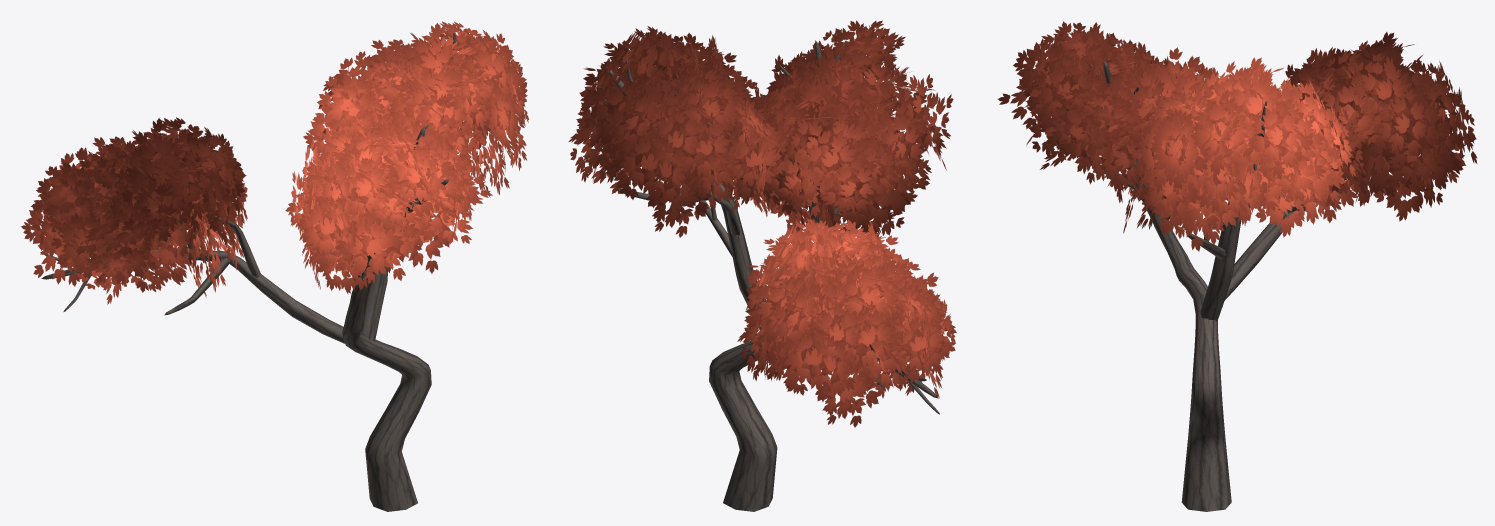
File: maple.glb
3 renders of one model, left to right at view 1: azimuth 30°, elevation 25°; view 2: azimuth 150°, elevation 25°; view 3: azimuth 270°, elevation 25°, orthographic. The views are drawn at different scales.
Parts seen in each view (by area): view 1: MapleTree_2; view 2: MapleTree_2; view 3: MapleTree_2.
Part boxes in pixels (left/top/right/bottom): MapleTree_2: left=21, top=21, right=529, bottom=511; MapleTree_2: left=568, top=20, right=956, bottom=511; MapleTree_2: left=998, top=21, right=1477, bottom=511.
Bounding box in the file's own units: 6.7 × 6.71 × 6.24.
Materials: 2 (2 with a texture image).
